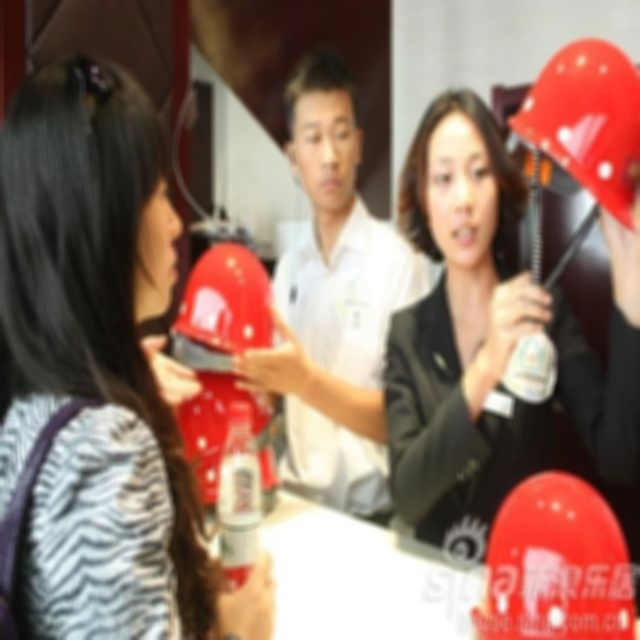Sin_Casco_Mascarrilla: (408, 88, 510, 262), (283, 60, 366, 202)
